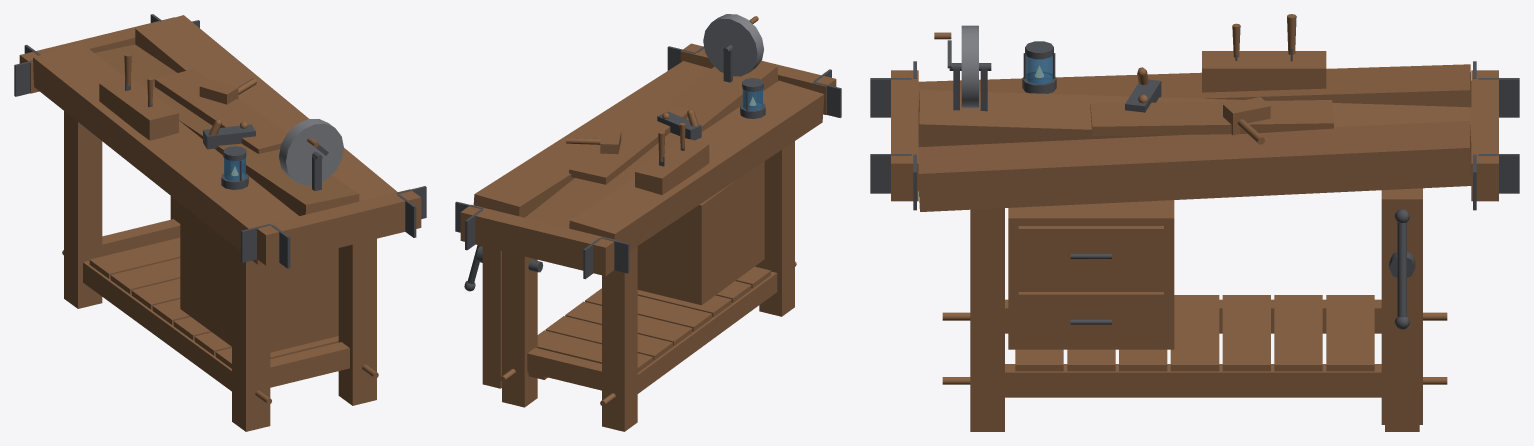
The model's file is workbench.glb.
3 renders of one model, left to right at view 1: azimuth 30°, elevation 25°; view 2: azimuth 150°, elevation 25°; view 3: azimuth 270°, elevation 25°, orthographic. The views are drawn at different scales.
Parts seen in each view (by area): view 1: Mesh_PlankBack, Mesh_CabinetBody, Mesh_PlankFront, Mesh_LegBR, Mesh_LegBL, Mesh_EndCapRight, Mesh_PlankMiddle, Mesh_LegFR, Mesh_Workpiece, Mesh_StretcherBack, Mesh_GrindStone, Mesh_ToolBlock (+17 smaller); view 2: Mesh_PlankBack, Mesh_CabinetBody, Mesh_PlankFront, Mesh_PlankMiddle, Mesh_LegBL, Mesh_EndCapLeft, Mesh_LegFL, Mesh_LegBR, Mesh_Workpiece, Mesh_StretcherBack, Mesh_ViseChop, Mesh_GrindStone (+15 smaller); view 3: Mesh_PlankFront, Mesh_PlankMiddle, Mesh_PlankBack, Mesh_StretcherFront, Mesh_ViseChop, Mesh_CabinetBody, Mesh_DrawerTop, Mesh_DrawerBottom, Mesh_LegFR, Mesh_Workpiece, Mesh_ToolBlock, Mesh_ShelfPlank0 (+18 smaller).
Part boxes in pixels (<box>): Mesh_PlankBack: <box>33,43,298,264</box>; Mesh_CabinetBody: <box>180,203,338,352</box>; Mesh_PlankFront: <box>135,15,397,201</box>; Mesh_LegBR: <box>232,244,270,431</box>; Mesh_LegBL: <box>64,111,102,308</box>; Mesh_EndCapRight: <box>255,189,421,265</box>; Mesh_PlankMiddle: <box>94,44,359,215</box>; Mesh_LegFR: <box>338,238,376,405</box>; Mesh_Workpiece: <box>154,69,287,153</box>; Mesh_StretcherBack: <box>83,260,256,403</box>; Mesh_GrindStone: <box>279,119,343,185</box>; Mesh_ToolBlock: <box>99,77,178,140</box>; Mesh_PlankBack: <box>569,80,824,251</box>; Mesh_CabinetBody: <box>637,161,764,305</box>; Mesh_PlankFront: <box>473,61,711,217</box>; Mesh_PlankMiddle: <box>525,63,778,228</box>; Mesh_LegBL: <box>602,246,637,431</box>; Mesh_EndCapLeft: <box>460,204,615,276</box>; Mesh_LegFL: <box>502,251,537,407</box>; Mesh_LegBR: <box>759,141,794,316</box>; Mesh_Workpiece: <box>569,101,691,184</box>; Mesh_StretcherBack: <box>637,271,777,393</box>; Mesh_ViseChop: <box>482,246,501,388</box>; Mesh_GrindStone: <box>703,14,763,76</box>; Mesh_PlankFront: <box>918,121,1471,211</box>; Mesh_PlankMiddle: <box>918,90,1471,147</box>; Mesh_PlankBack: <box>918,64,1471,107</box>; Mesh_StretcherFront: <box>1005,364,1381,397</box>; Mesh_ViseChop: <box>1381,188,1422,424</box>; Mesh_CabinetBody: <box>1008,200,1174,349</box>; Mesh_DrawerTop: <box>1018,226,1163,282</box>; Mesh_DrawerBottom: <box>1018,292,1163,347</box>; Mesh_LegFR: <box>970,208,1004,431</box>; Mesh_Workpiece: <box>1090,100,1333,136</box>; Mesh_ToolBlock: <box>1202,51,1326,92</box>; Mesh_ShelfPlank0: <box>1326,295,1374,371</box>.
Size of the model in its own units: 0.842 by 1.16 by 1.88.
3 materials, 3 textured.
